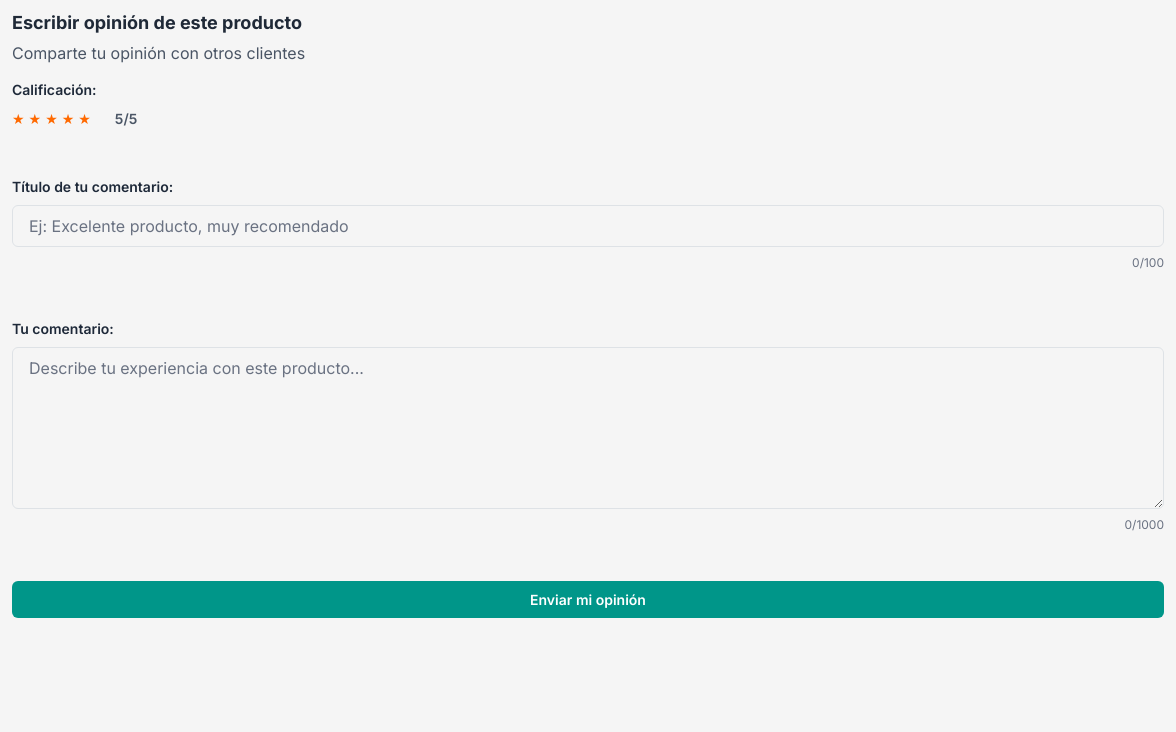
Test: CommentForm › cambia la calificación al hacer clic en una estrella
Click the button named "Calificar con".
click(35, 119)  # box [29, 108, 41, 129]
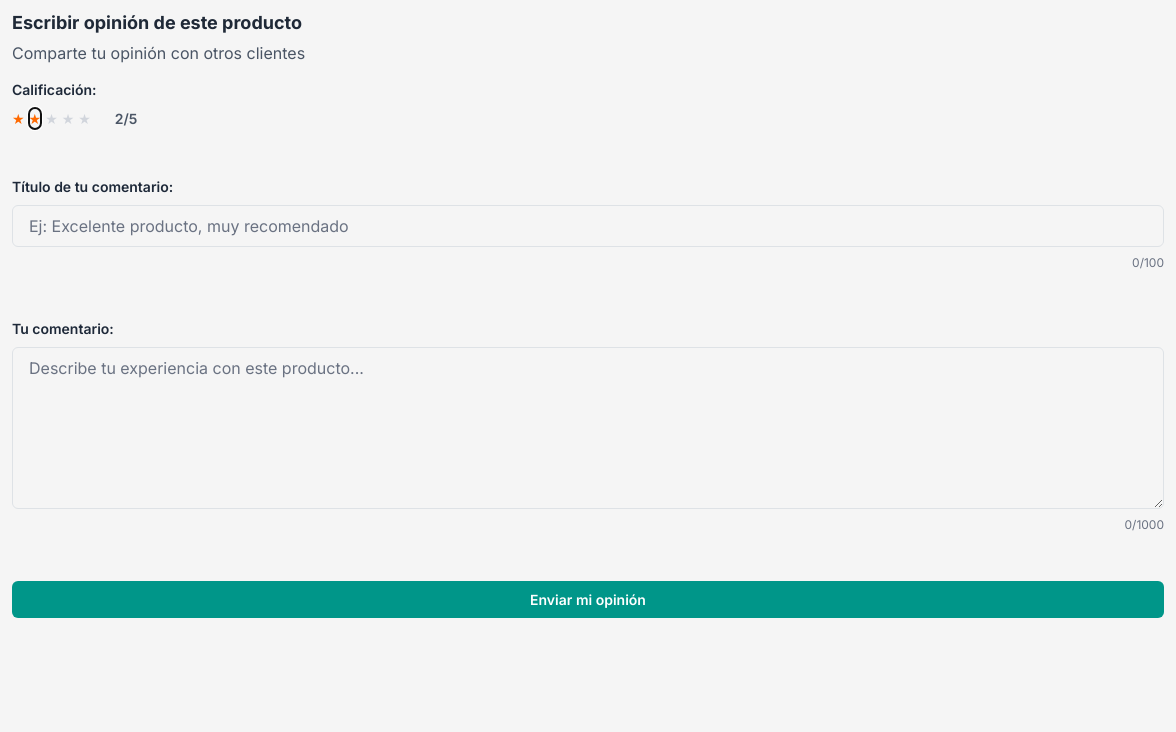
Expected: the text "2/5" is shown, [115, 109, 137, 129]
